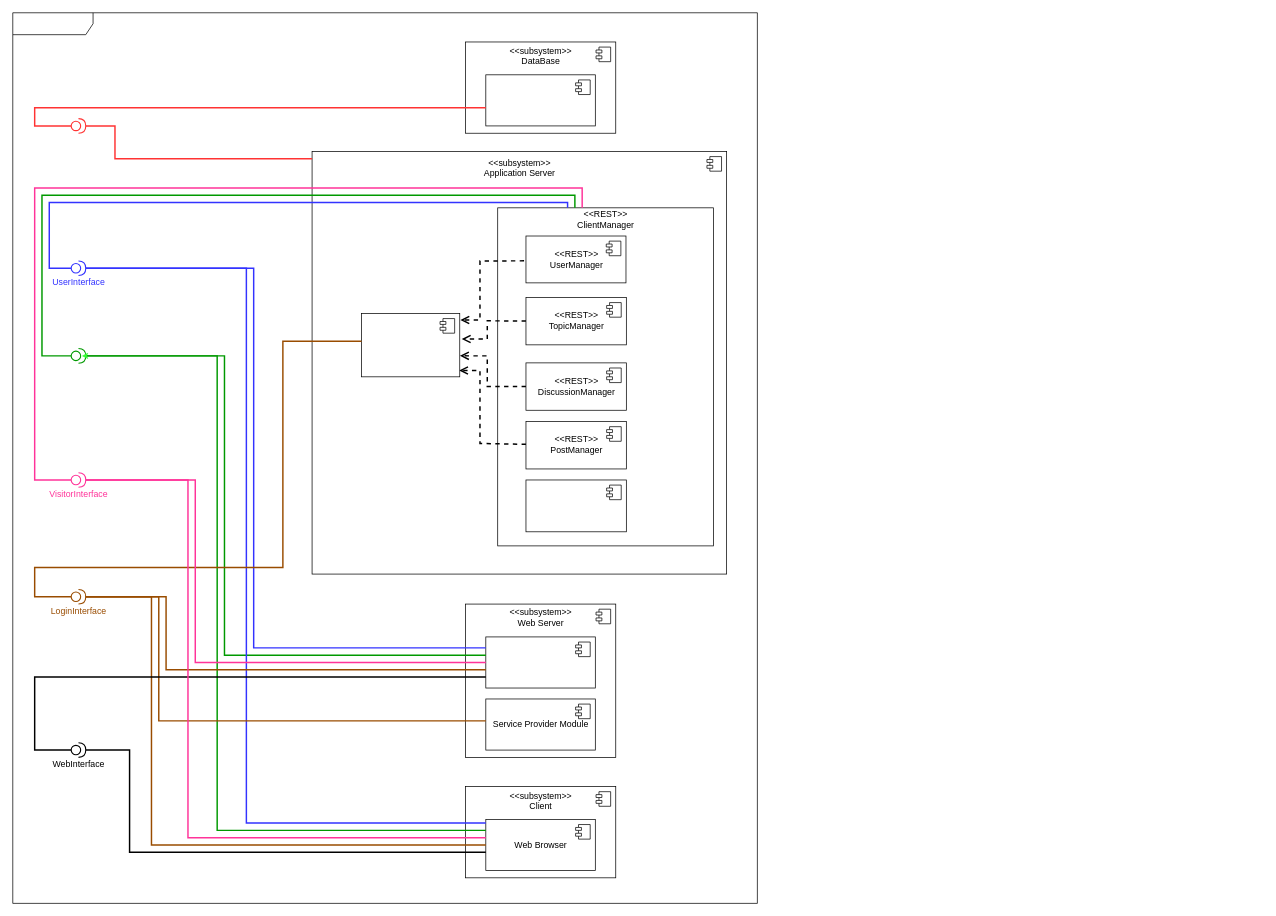
Image size: 1276x916. Some labels were removed from this diagram. The box of each missing label's shape, as (x1, y1, x2, y2) in pixels:
<<service>> AuthenticationManager: (361, 313, 460, 377)
DBMS: (485, 74, 595, 126)
DBMSInterface: (70, 118, 86, 133)
ForumComponent: (12, 12, 757, 903)
NotificationManager: (525, 479, 626, 532)
PolicyMakerInterface: (70, 348, 86, 363)
Web Server Module: (485, 636, 595, 688)
